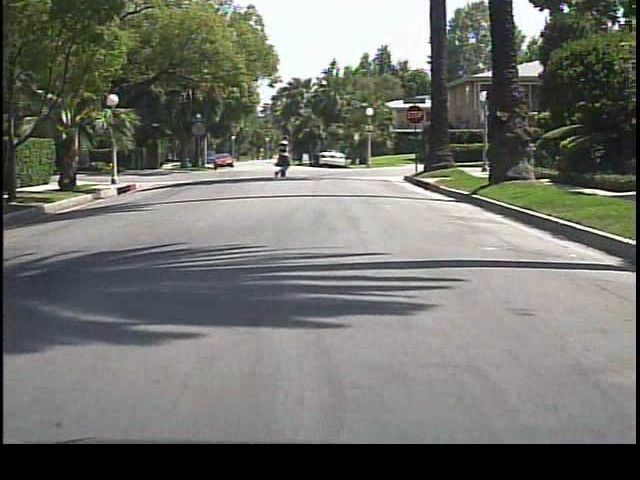person: (274, 135, 293, 179)
